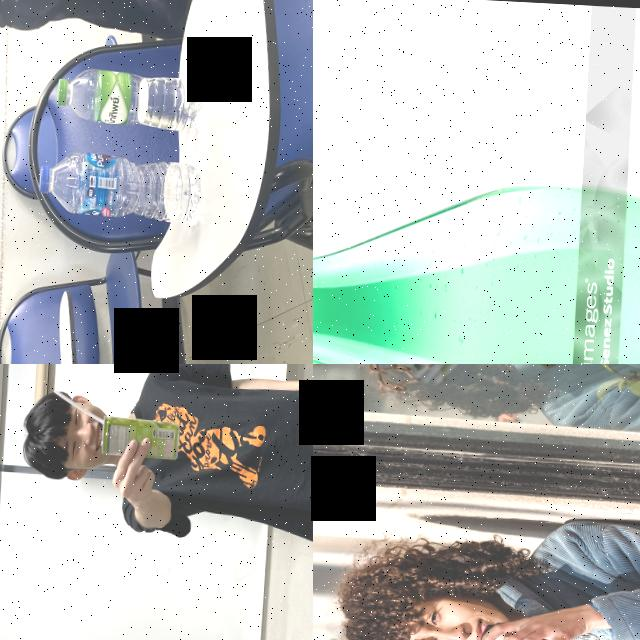bottle: (313, 163, 640, 364), (37, 147, 205, 227), (54, 64, 206, 132)
can: (99, 414, 182, 464)
cup: (476, 621, 576, 640)
